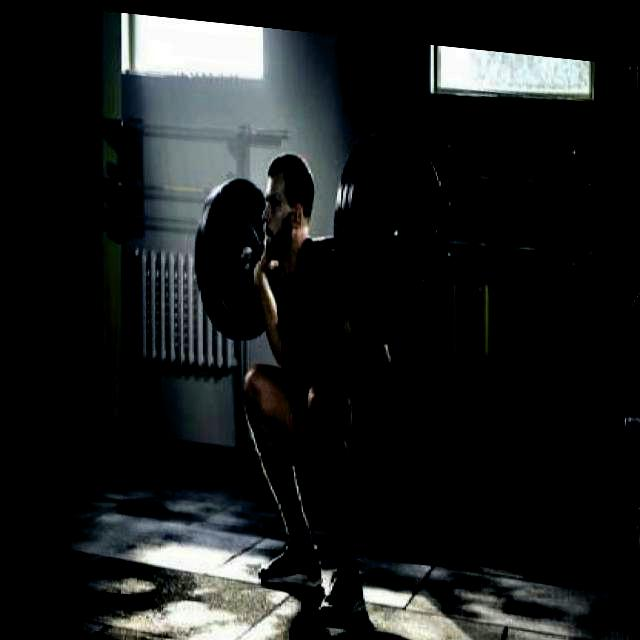barbell: (344, 111, 455, 344)
